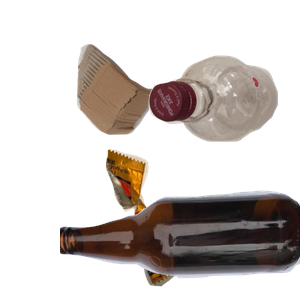cardboard: (74, 42, 225, 170)
glass: (60, 188, 300, 300)
plastic: (146, 53, 300, 187)
trash: (103, 147, 300, 300)
